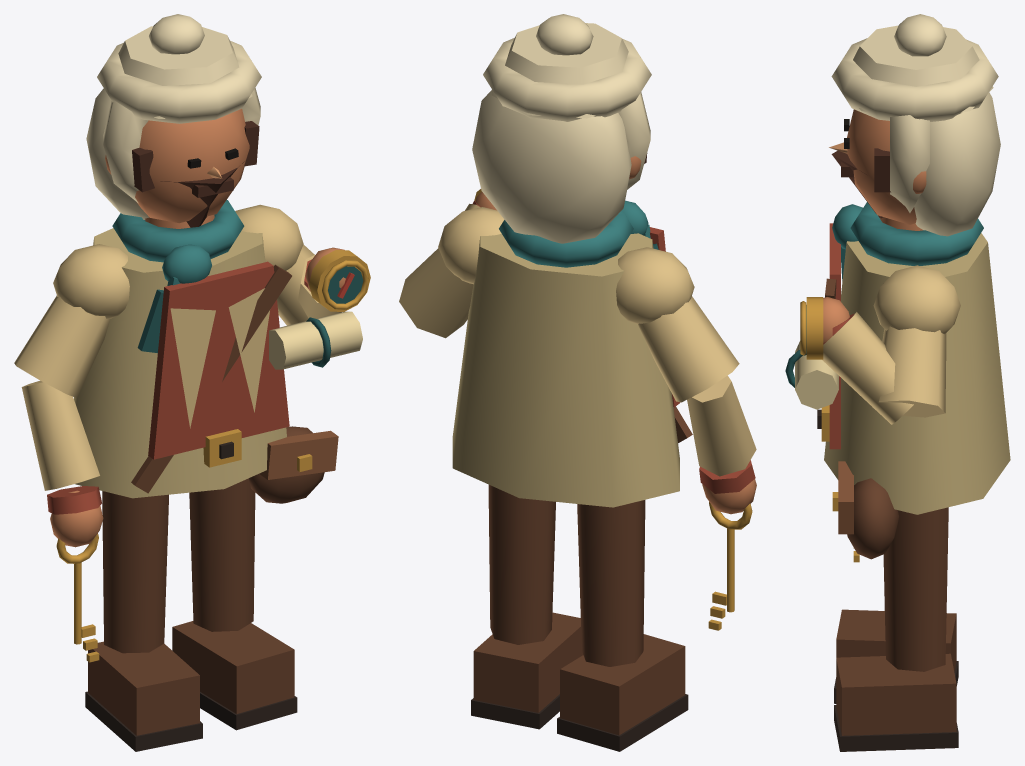
Rendered from asset.glb.
3 views of the same model, side by side, from view 1: azimuth 30°, elevation 25°; view 2: azimuth 150°, elevation 25°; view 3: azimuth 270°, elevation 25° (orthographic). The views are drawn at different scales.
Visible parts, largest first — view 1: Robe, Rust_Vest, Left_Leg, Right_Leg, Head, Right_Boot, Left_Boot, Turban_Wrap, Left_Upper_Sleeve, Left_Forearm_Sleeve, Turban_Crown, Left_Shoulder (+26 smaller); view 2: Robe, Hood_Back, Left_Leg, Right_Leg, Left_Boot, Right_Boot, Turban_Wrap, Left_Upper_Sleeve, Turban_Crown, Left_Forearm_Sleeve, Left_Shoulder, Right_Upper_Sleeve (+9 smaller); view 3: Robe, Right_Leg, Right_Boot, Hood_Back, Turban_Wrap, Turban_Crown, Right_Upper_Sleeve, Right_Forearm_Sleeve, Right_Shoulder, Neck_Scarf, Head, Hood_Rim (+11 smaller).
Boxes of the visible parts, x1,y1,x2,y2 form: Robe: (74, 228, 286, 498); Rust_Vest: (148, 261, 289, 459); Left_Leg: (102, 491, 168, 653); Right_Leg: (189, 478, 255, 631); Head: (135, 108, 249, 223); Right_Boot: (172, 621, 294, 713); Left_Boot: (88, 641, 199, 735); Turban_Wrap: (97, 40, 261, 123); Left_Upper_Sleeve: (14, 295, 110, 397); Left_Forearm_Sleeve: (21, 380, 99, 490); Turban_Crown: (112, 26, 252, 118); Left_Shoulder: (53, 244, 129, 318); Robe: (452, 233, 679, 507); Hood_Back: (472, 89, 631, 243); Left_Leg: (577, 500, 645, 666); Right_Leg: (488, 485, 555, 644); Left_Boot: (560, 634, 685, 735); Right_Boot: (473, 612, 583, 712); Turban_Wrap: (483, 38, 651, 121); Left_Upper_Sleeve: (638, 296, 739, 402); Turban_Crown: (491, 23, 632, 118); Left_Forearm_Sleeve: (687, 375, 756, 476); Left_Shoulder: (616, 247, 694, 324); Right_Upper_Sleeve: (399, 248, 473, 338); Robe: (824, 233, 1010, 514); Right_Leg: (883, 507, 948, 671); Right_Boot: (836, 653, 956, 751); Hood_Back: (914, 92, 1000, 236); Turban_Wrap: (831, 38, 998, 121); Turban_Crown: (853, 25, 993, 119); Right_Upper_Sleeve: (872, 326, 946, 417); Right_Forearm_Sleeve: (822, 312, 913, 424); Right_Shoulder: (873, 265, 960, 334); Neck_Scarf: (850, 202, 983, 265); Head: (847, 109, 916, 224); Hood_Rim: (890, 54, 929, 212).
Bounding box in the file's own units: 1.81 × 3.67 × 1.08.
